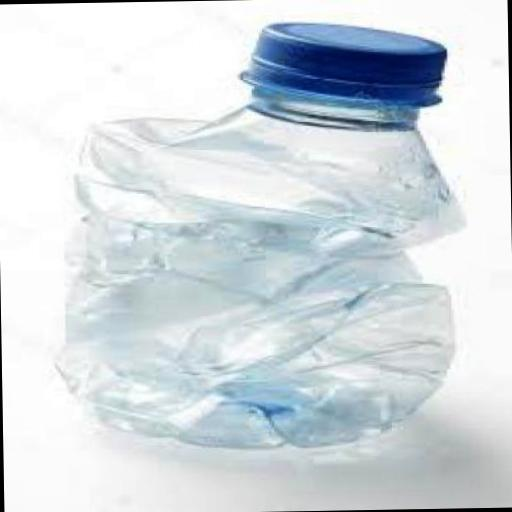plastic: (58, 16, 476, 452), (238, 15, 454, 110)
